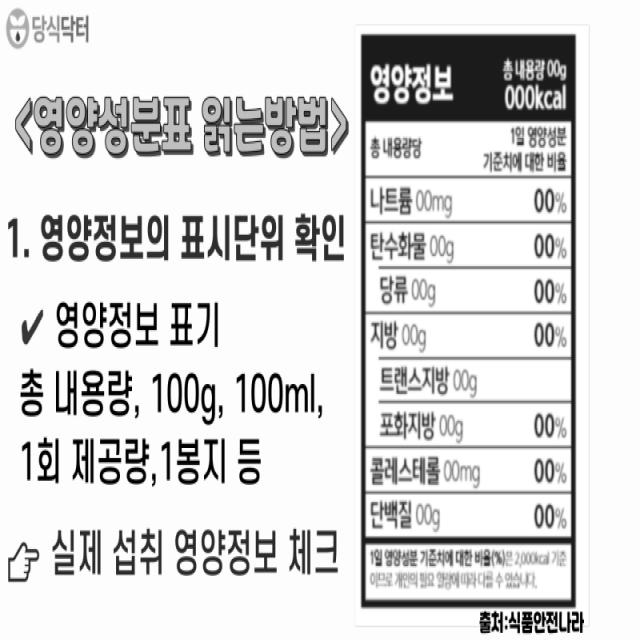Nutrition Label: (358, 22, 580, 614)
